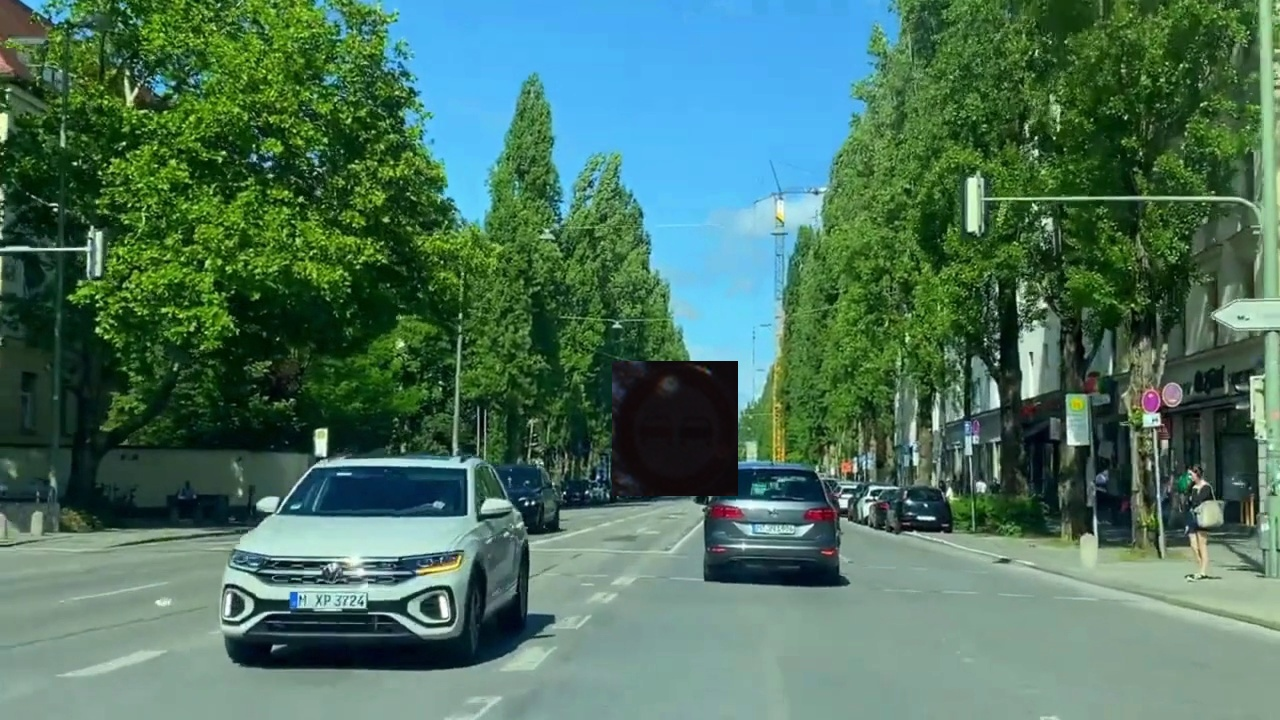No passing: (612, 361, 738, 496)
